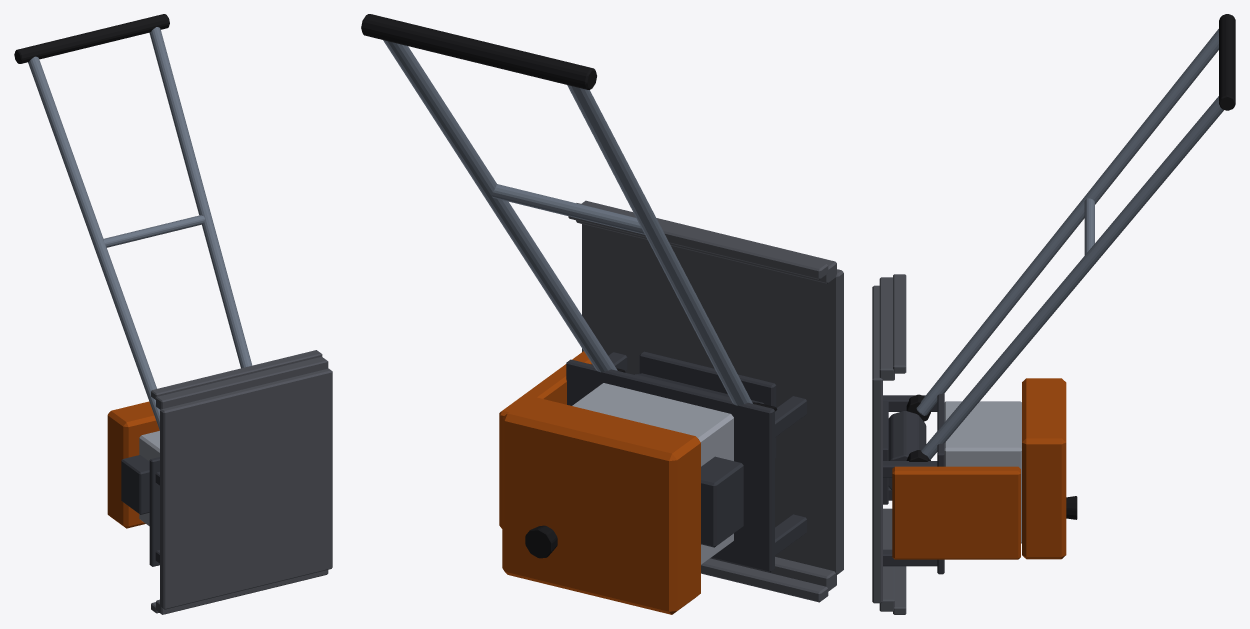
The model's file is PlateCompactor.glb.
3 renders of one model, left to right at view 1: azimuth 30°, elevation 25°; view 2: azimuth 150°, elevation 25°; view 3: azimuth 270°, elevation 25°, orthographic. The views are drawn at different scales.
Visible parts, largest first — view 1: Head, Body, Grip; view 2: Head, Body, Grip; view 3: Head, Body, Grip.
Part boxes in pixels (x1,y1,x2,y2): Head: [107, 350, 332, 614]; Body: [28, 27, 252, 430]; Grip: [14, 14, 169, 63]; Head: [499, 200, 843, 614]; Body: [383, 40, 777, 411]; Grip: [361, 14, 596, 89]; Head: [872, 274, 1077, 614]; Body: [906, 29, 1223, 461]; Grip: [1219, 14, 1235, 110].
Bounding box in the file's own units: 0.5 × 1.28 × 0.8189.
